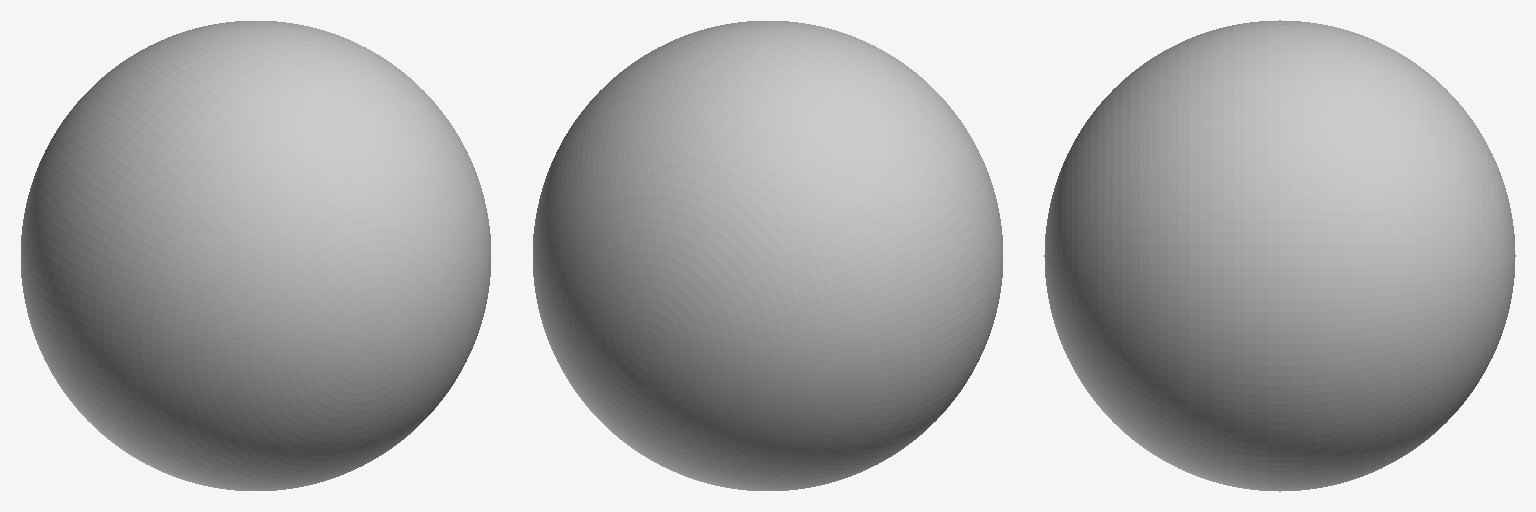
File: jupiter.obj
The picture shows the model from 3 angles: view 1: azimuth 30°, elevation 25°; view 2: azimuth 150°, elevation 25°; view 3: azimuth 270°, elevation 25°; orthographic projection.
Visible parts, largest first — view 1: Sphere; view 2: Sphere; view 3: Sphere.
Boxes of the visible parts, x1=… form: Sphere: x1=21, y1=21, x2=490, y2=490; Sphere: x1=533, y1=21, x2=1002, y2=490; Sphere: x1=1044, y1=20, x2=1515, y2=491.
Bounding box in the file's own units: 139822 × 139822 × 139822.